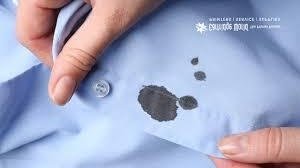ink: (139, 86, 177, 121), (181, 97, 198, 109), (195, 72, 206, 81), (191, 58, 198, 64)
